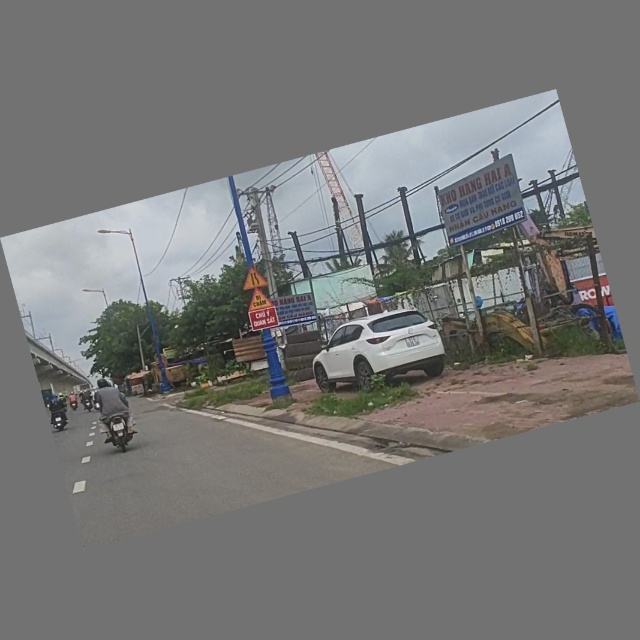W.203c: (238, 265, 270, 293)
W.245a: (244, 285, 277, 313)
